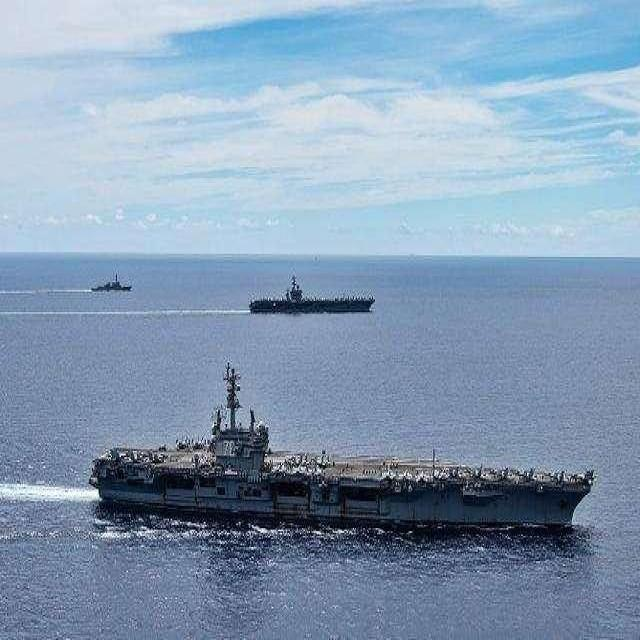navalvessels: (93, 358, 600, 553), (238, 278, 378, 332), (88, 272, 138, 300)
